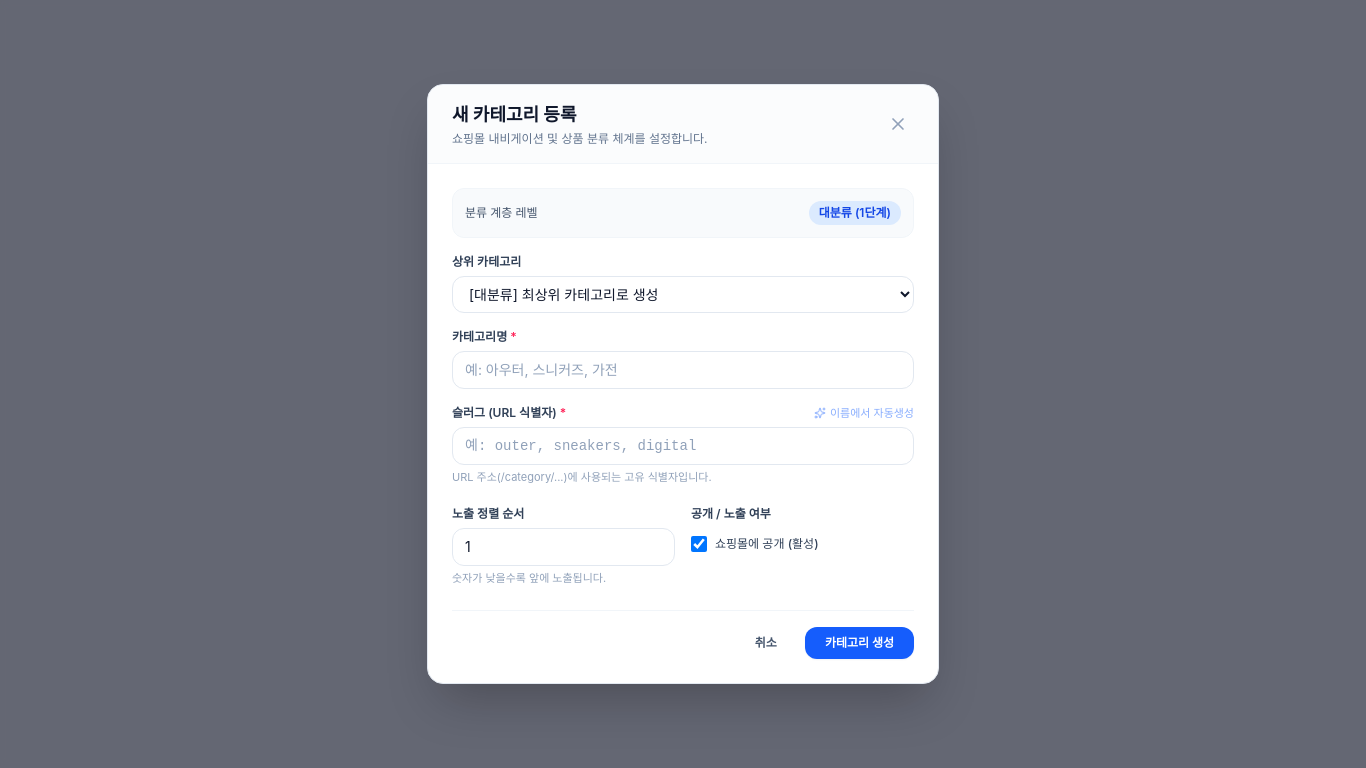
Test case: CategoryEditorModal › 자동 슬러그 생성 버튼을 누르면 카테고리명 기반으로 슬러그가 채워진다
The image size is (1366, 768).
Type "Men Pants" into the field with placeholder "예: 아우터, 스니커즈, 가전" at (683, 370), box [452,351,914,389]
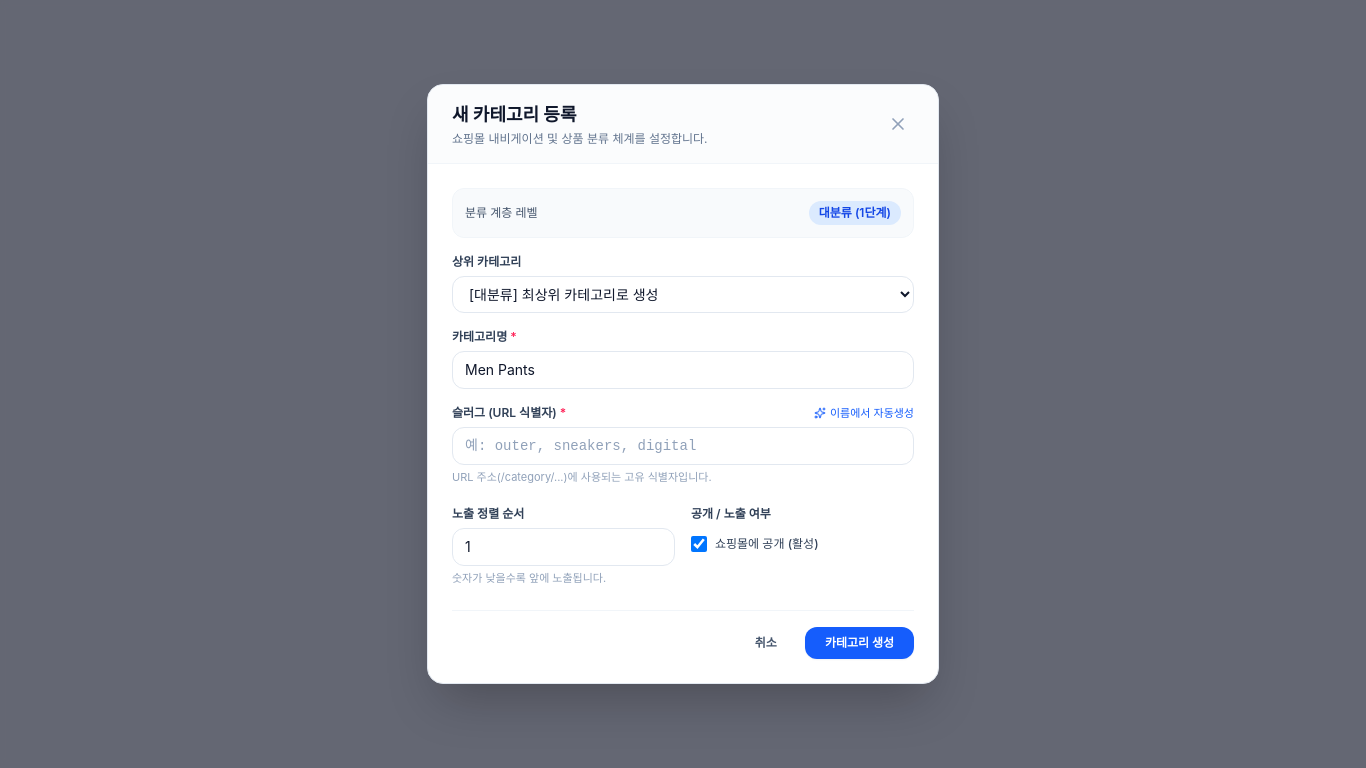
Click the button "이름에서 자동생성" at (864, 413), box [814,405,914,421]
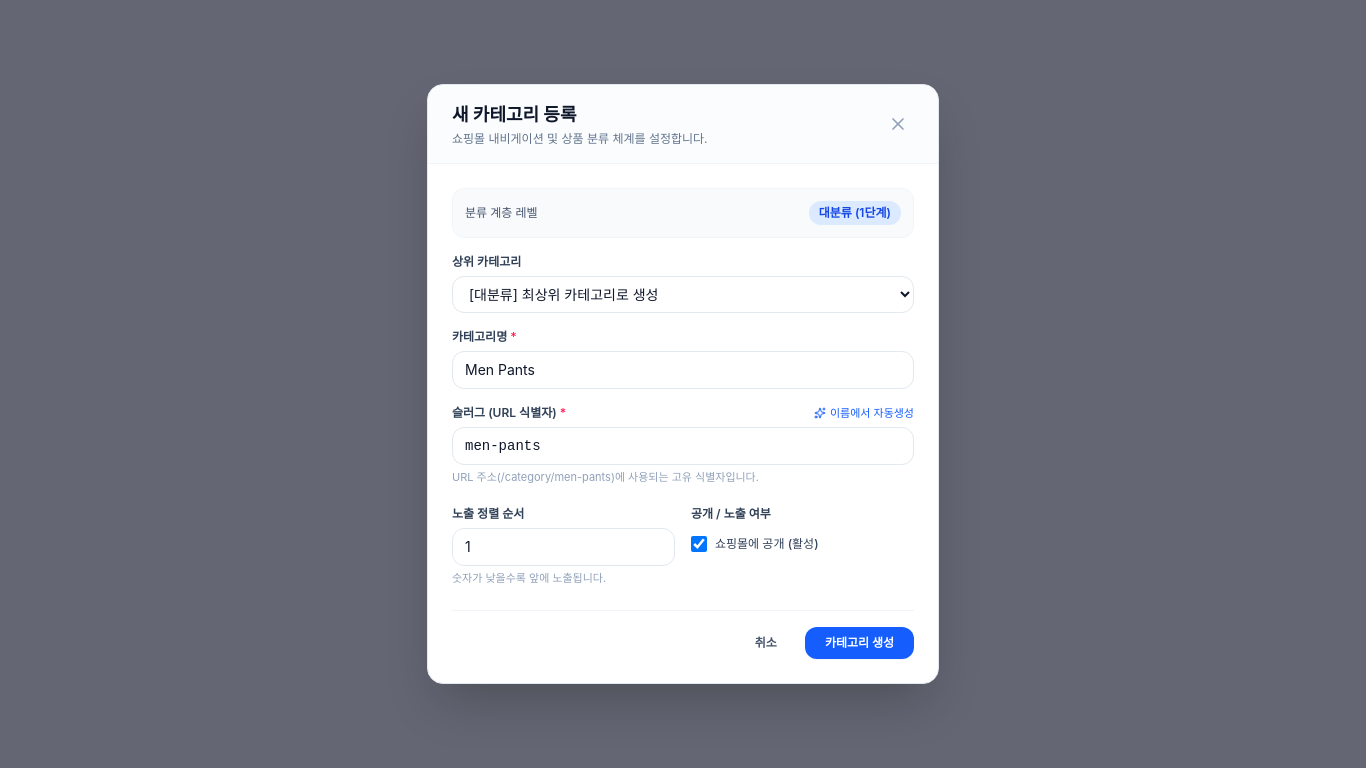
Check: the field with placeholder "예: outer, sneakers, digital" below "슬러그 (URL 식별자)" holds "men-pants", box [452,427,914,465]
